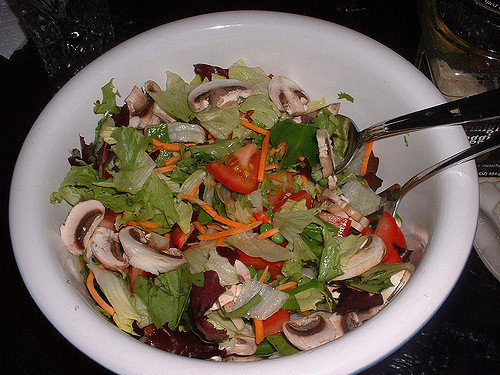chopped lettuce: (121, 138, 172, 219)
